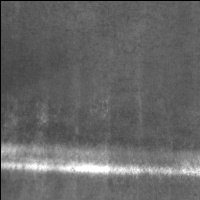scratches: (1, 146, 200, 179)
